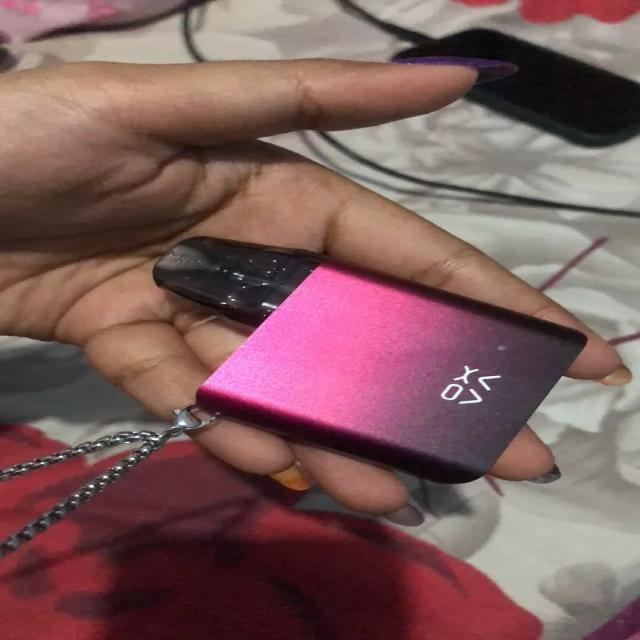Hazard: (150, 236, 589, 484)
